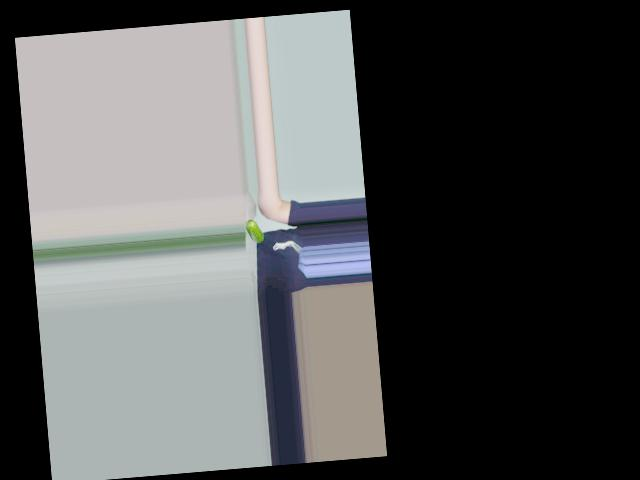cucumber: (244, 218, 264, 243)
